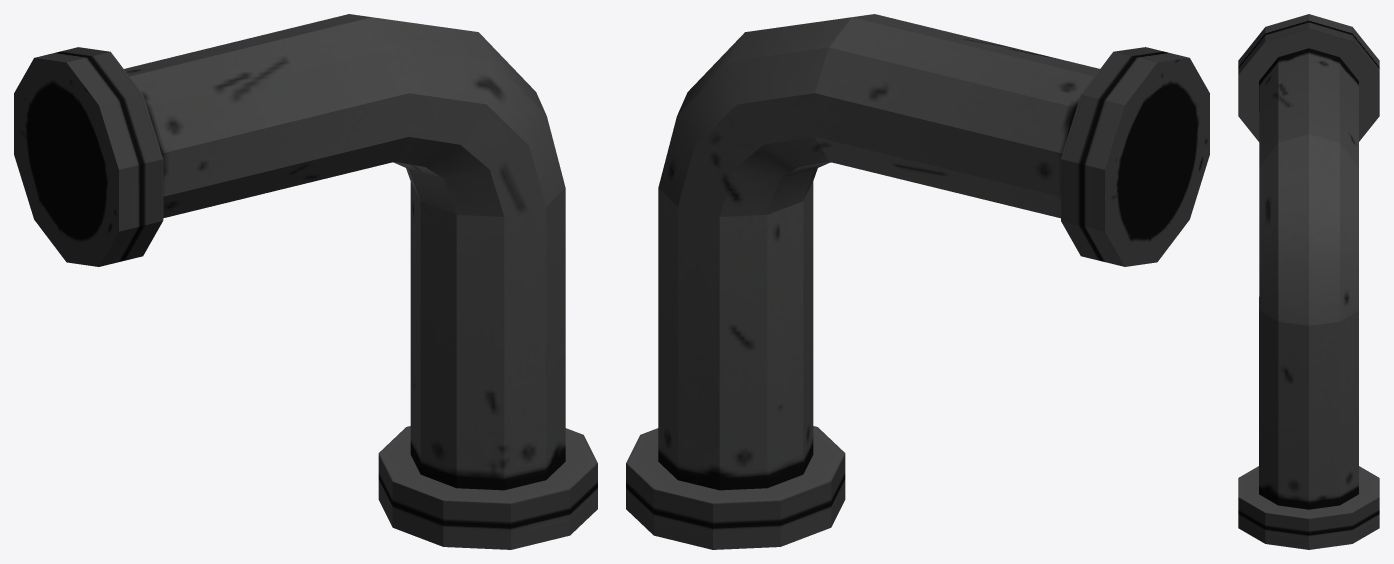
File: mod_prop_pipe_corner01.fbx
3 views of the same model, side by side, from view 1: azimuth 30°, elevation 25°; view 2: azimuth 150°, elevation 25°; view 3: azimuth 270°, elevation 25° (orthographic). The views are drawn at different scales.
Visible parts, largest first — view 1: mod_prop_pipe_corner01; view 2: mod_prop_pipe_corner01; view 3: mod_prop_pipe_corner01.
Part boxes in pixels (left/top/right/bottom): mod_prop_pipe_corner01: left=14, top=14, right=597, bottom=549; mod_prop_pipe_corner01: left=626, top=14, right=1209, bottom=549; mod_prop_pipe_corner01: left=1238, top=14, right=1379, bottom=549.
Bounding box in the file's own units: 97.05 × 97.69 × 34.09.
